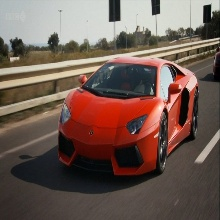no damage: (59, 56, 201, 178)
